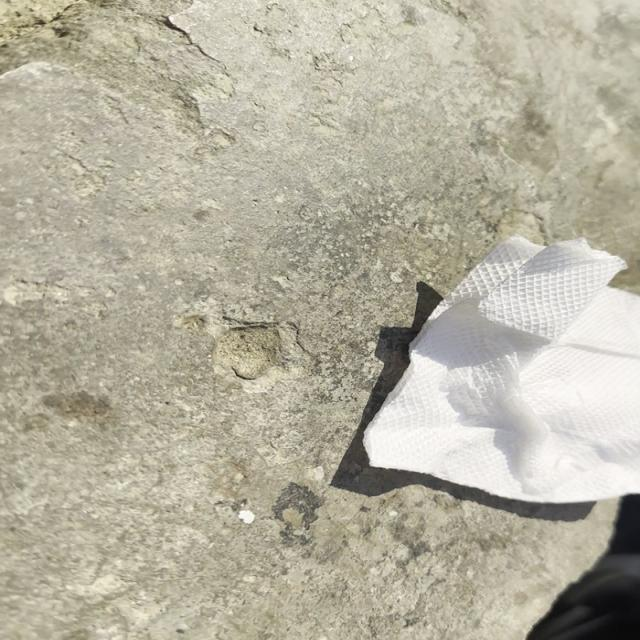tissue: (357, 227, 640, 497)
